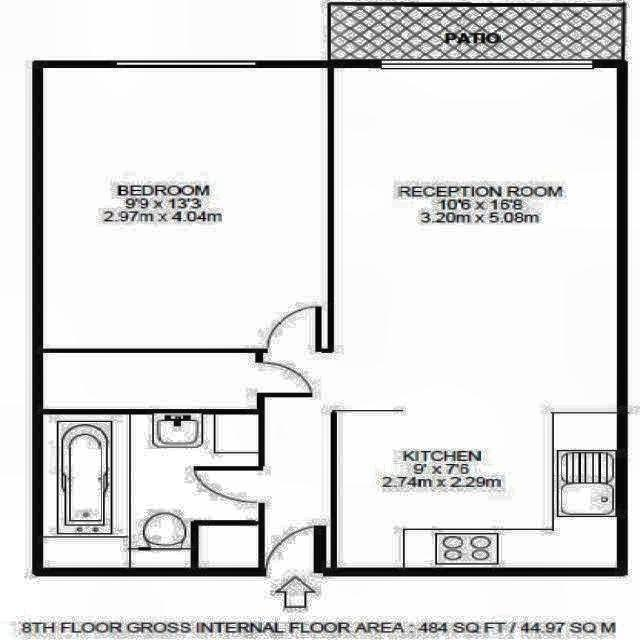room: (264, 66, 618, 570), (43, 68, 327, 349), (44, 415, 258, 567), (43, 353, 255, 409)
